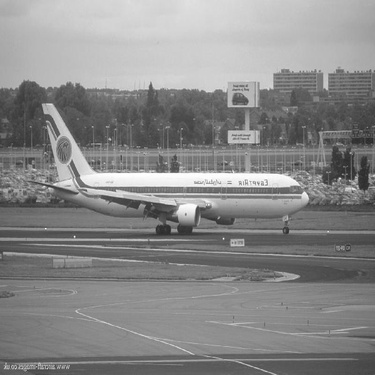airplane: (13, 83, 321, 246)
